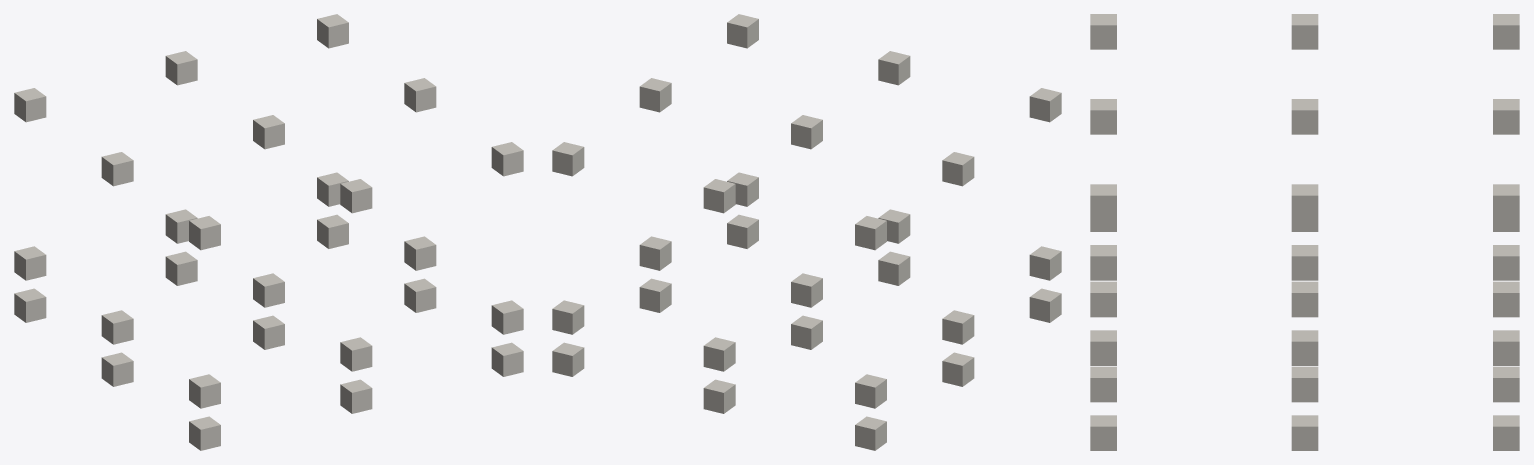
File: building_break.gltf
The picture shows the model from 3 angles, left to right: view 1: azimuth 30°, elevation 25°; view 2: azimuth 150°, elevation 25°; view 3: azimuth 270°, elevation 25°; orthographic projection. The views are drawn at different scales.
Visible parts, largest first — view 1: 立方体.007, 立方体.012, 立方体.023, 立方体, 立方体.003, 立方体.005, 立方体.008, 立方体.009, 立方体.010, 立方体.016, 立方体.019, 立方体.025 (+15 smaller); view 2: 立方体.001, 立方体.012, 立方体.023, 立方体.002, 立方体.003, 立方体.005, 立方体.006, 立方体.010, 立方体.015, 立方体.016, 立方体.019, 立方体.020 (+15 smaller); view 3: 立方体.004, 立方体.005, 立方体.012, 立方体.013, 立方体.014, 立方体.021, 立方体.022, 立方体.023, 立方体.001, 立方体.002, 立方体.007, 立方体.008 (+12 smaller).
Boxes of the visible parts, <box> form: 立方体.007: <box>340,337,372,371</box>; 立方体.012: <box>404,78,436,112</box>; 立方体.023: <box>101,352,133,386</box>; 立方体: <box>14,246,46,280</box>; 立方体.003: <box>101,310,133,344</box>; 立方体.005: <box>404,236,436,270</box>; 立方体.008: <box>491,300,523,334</box>; 立方体.009: <box>491,142,523,176</box>; 立方体.010: <box>340,179,372,213</box>; 立方体.016: <box>165,51,197,85</box>; 立方体.019: <box>340,379,372,413</box>; 立方体.025: <box>165,251,197,285</box>; 立方体.001: <box>703,337,735,371</box>; 立方体.012: <box>639,78,671,112</box>; 立方体.023: <box>942,352,974,386</box>; 立方体.002: <box>552,300,584,334</box>; 立方体.003: <box>942,310,974,344</box>; 立方体.005: <box>639,236,671,270</box>; 立方体.006: <box>1029,246,1061,280</box>; 立方体.010: <box>878,51,910,85</box>; 立方体.015: <box>552,142,584,176</box>; 立方体.016: <box>703,179,735,213</box>; 立方体.019: <box>878,251,910,285</box>; 立方体.020: <box>1029,288,1061,322</box>; 立方体.004: <box>1291,281,1318,317</box>; 立方体.005: <box>1291,366,1318,402</box>; 立方体.012: <box>1291,184,1318,219</box>; 立方体.013: <box>1291,99,1318,134</box>; 立方体.014: <box>1291,14,1318,49</box>; 立方体.021: <box>1291,415,1318,450</box>; 立方体.022: <box>1291,330,1318,365</box>; 立方体.023: <box>1291,245,1318,280</box>; 立方体.001: <box>1493,281,1519,317</box>; 立方体.002: <box>1493,366,1519,402</box>; 立方体.007: <box>1090,281,1116,317</box>; 立方体.008: <box>1090,366,1116,402</box>.
Size of the model in its own units: 0.32 by 0.21 by 0.32.
27 materials, 27 textured.
